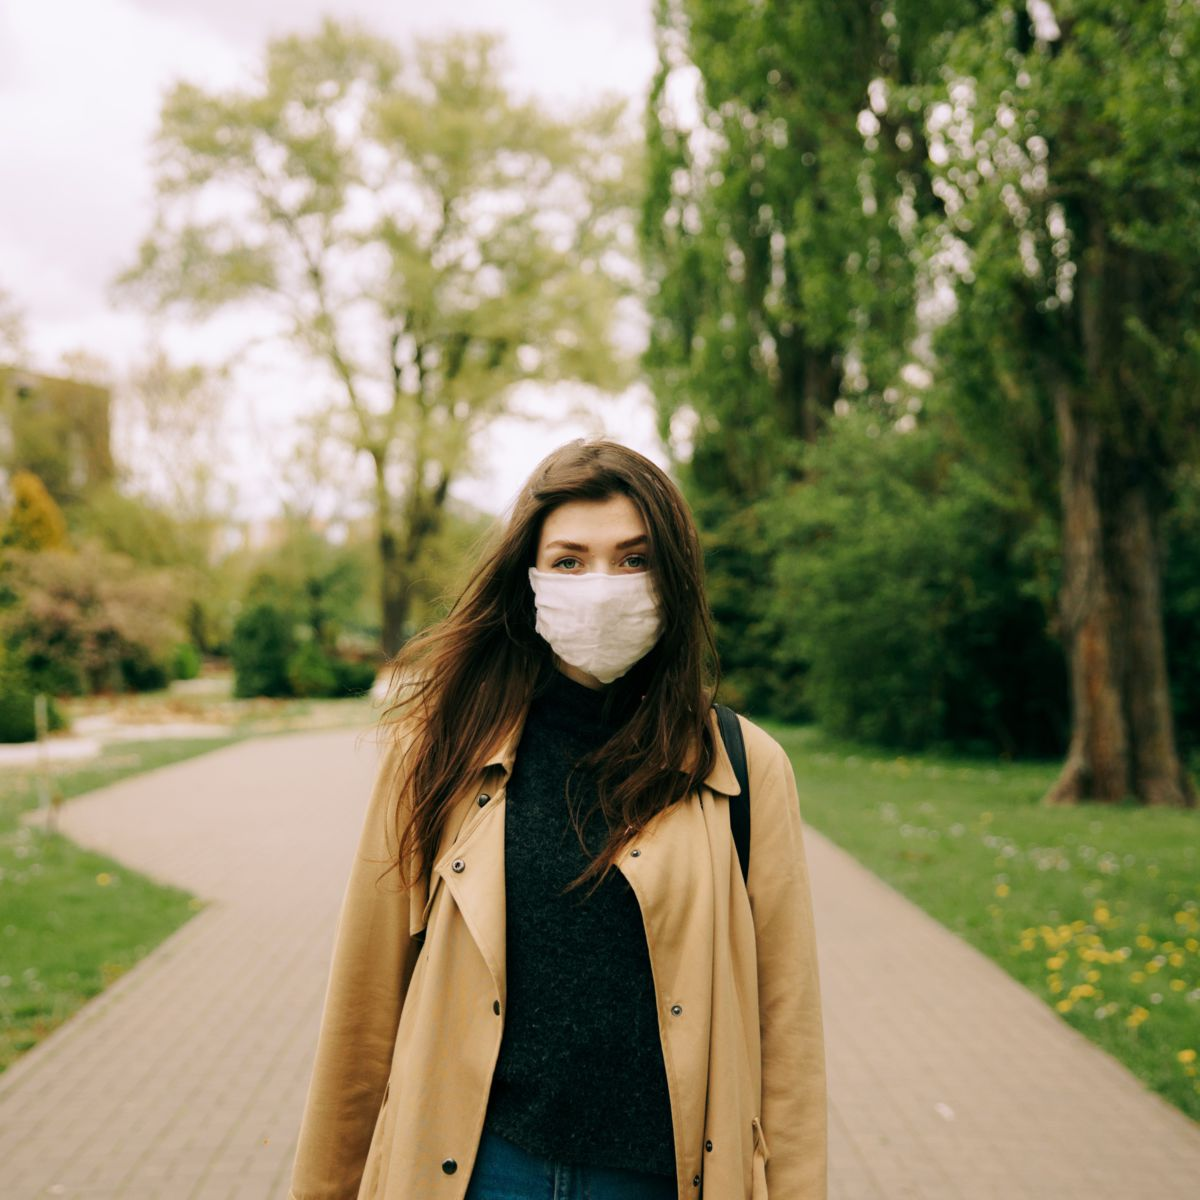with_mask: (530, 503, 670, 680)
